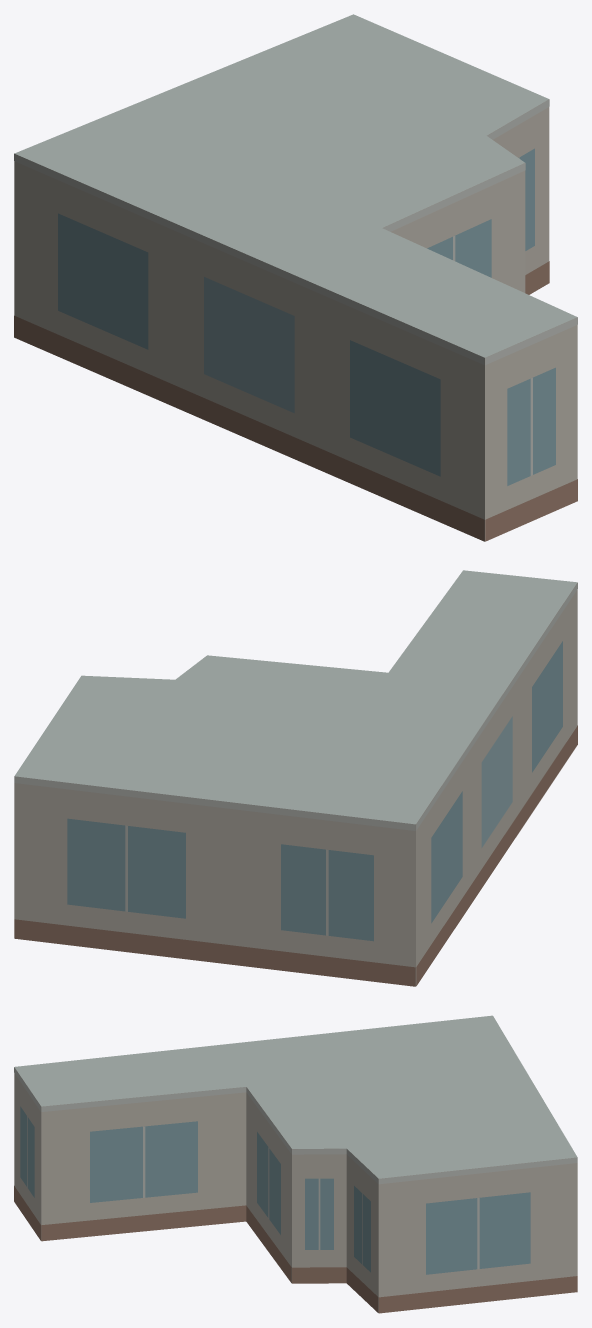
File: survey-upis-32723017.glb
3 views of the same model, one above another, from view 1: azimuth 30°, elevation 25°; view 2: azimuth 150°, elevation 25°; view 3: azimuth 270°, elevation 25° (orthographic). The views are drawn at different scales.
Visible parts, largest first — view 1: survey-upis-32723017.tmp; view 2: survey-upis-32723017.tmp; view 3: survey-upis-32723017.tmp.
Part boxes in pixels (x1,y1,x2,y2): survey-upis-32723017.tmp: (14,14,577,541); survey-upis-32723017.tmp: (14,570,577,986); survey-upis-32723017.tmp: (14,1015,577,1313).
Size of the model in its own units: 7.95 by 3.05 by 11.58.
